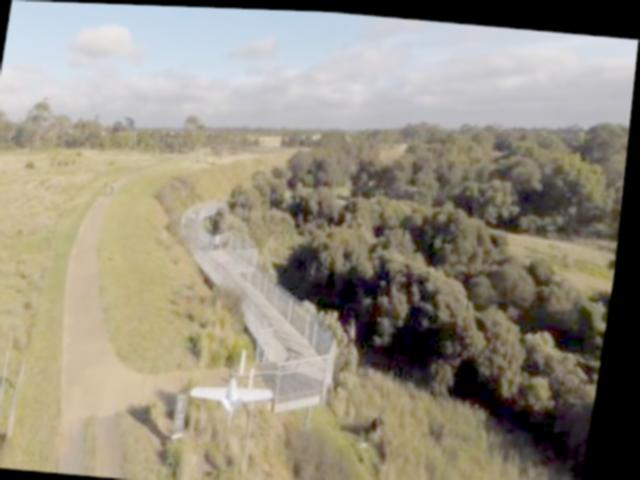uav: (191, 372, 283, 421)
